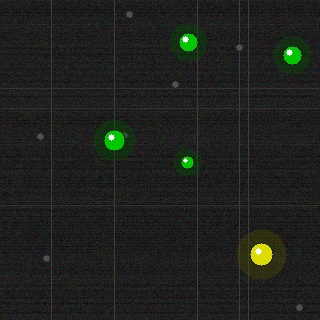green_normal: (102, 128, 126, 152), (281, 44, 303, 66), (177, 31, 199, 53), (179, 154, 195, 170)
yellow_warning: (248, 241, 274, 267)
